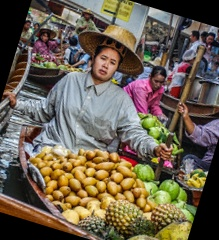Pineapple: (104, 195, 153, 235)
